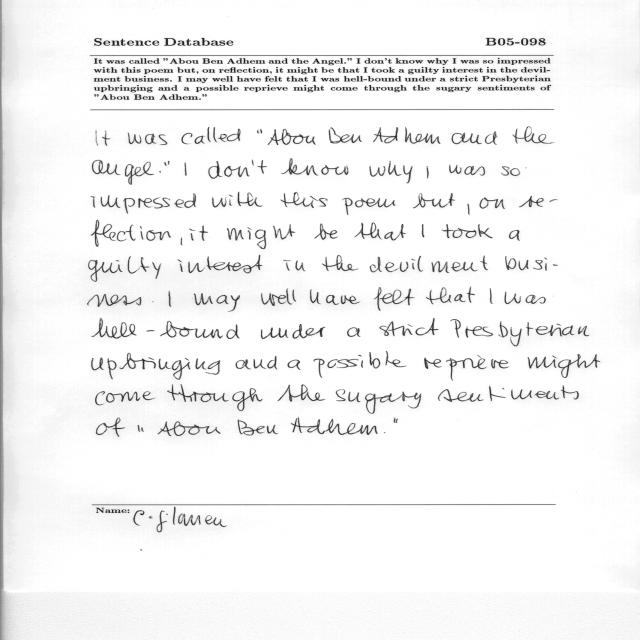word: (450, 319, 589, 346), (92, 353, 220, 380), (92, 318, 240, 339), (167, 385, 263, 412), (314, 351, 407, 378), (438, 385, 579, 402), (425, 355, 510, 381), (91, 193, 196, 214), (91, 220, 171, 247), (336, 389, 421, 414), (370, 256, 488, 273), (89, 256, 162, 282), (528, 354, 601, 378), (227, 224, 295, 249), (291, 417, 377, 435), (178, 256, 263, 274), (93, 160, 154, 185), (374, 127, 441, 144), (281, 159, 348, 176), (209, 160, 268, 179), (379, 319, 439, 337), (182, 127, 241, 144), (261, 324, 326, 339), (369, 161, 413, 183), (374, 287, 414, 311), (157, 422, 221, 437), (354, 223, 406, 241), (343, 198, 396, 215), (194, 293, 240, 312), (278, 384, 326, 402), (95, 391, 155, 405), (426, 287, 475, 304), (310, 289, 360, 305), (505, 256, 558, 271), (267, 129, 316, 145), (212, 192, 263, 207), (281, 192, 328, 208), (442, 224, 493, 238), (88, 294, 142, 307), (513, 127, 554, 144), (238, 420, 278, 436), (452, 131, 497, 145), (413, 193, 455, 208), (261, 288, 296, 306), (323, 255, 359, 271), (97, 418, 126, 437), (236, 356, 277, 369), (329, 128, 362, 144), (504, 292, 546, 304), (128, 133, 167, 145), (519, 196, 557, 207), (314, 223, 338, 240), (449, 165, 485, 176), (479, 197, 505, 209), (189, 226, 208, 241), (284, 260, 306, 271), (96, 131, 110, 146), (501, 166, 520, 176), (347, 327, 361, 337), (288, 360, 301, 370), (509, 230, 520, 241), (169, 291, 172, 307), (490, 288, 493, 304), (138, 425, 144, 432), (426, 166, 429, 179), (185, 163, 187, 176), (422, 224, 424, 237), (257, 129, 262, 134), (165, 161, 170, 166), (468, 204, 470, 215), (394, 418, 398, 423), (181, 238, 183, 246), (159, 171, 161, 173), (152, 301, 154, 302), (384, 432, 385, 433)
